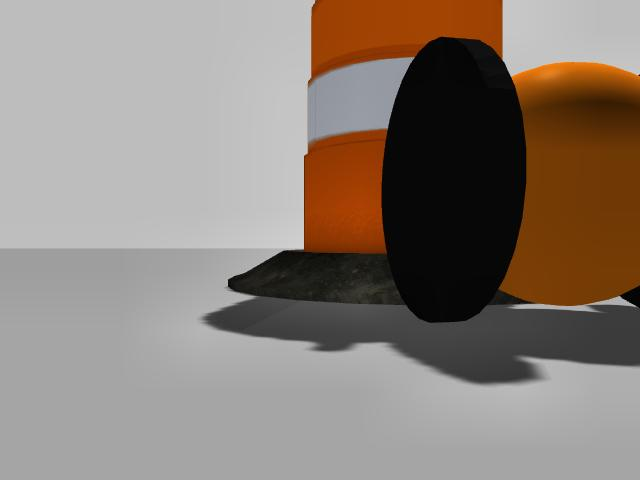target: (382, 36, 640, 322)
